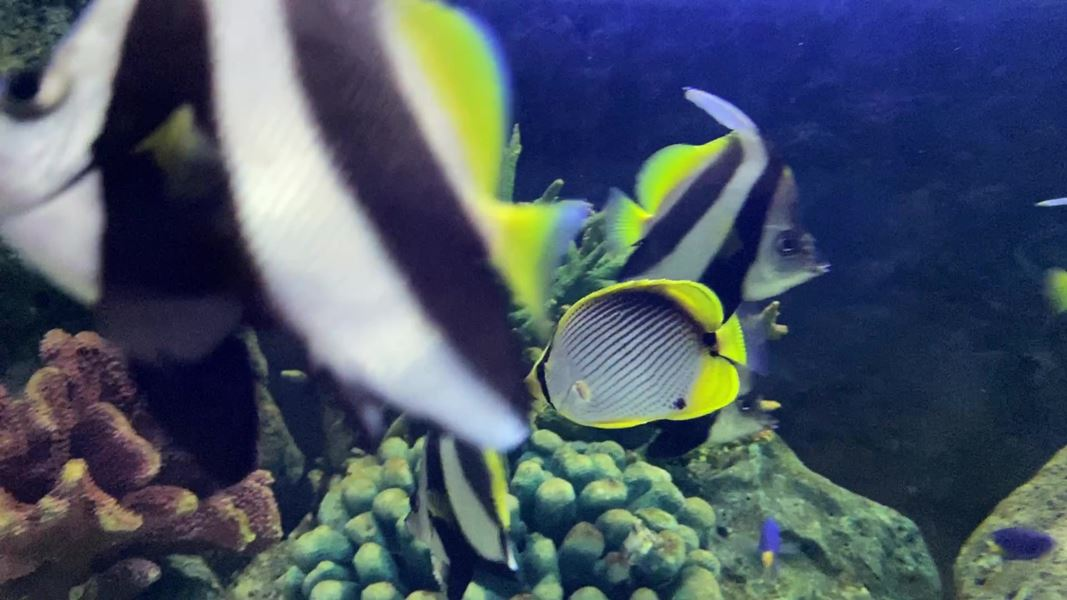Black-backed butterflyfish: (515, 268, 785, 442)
